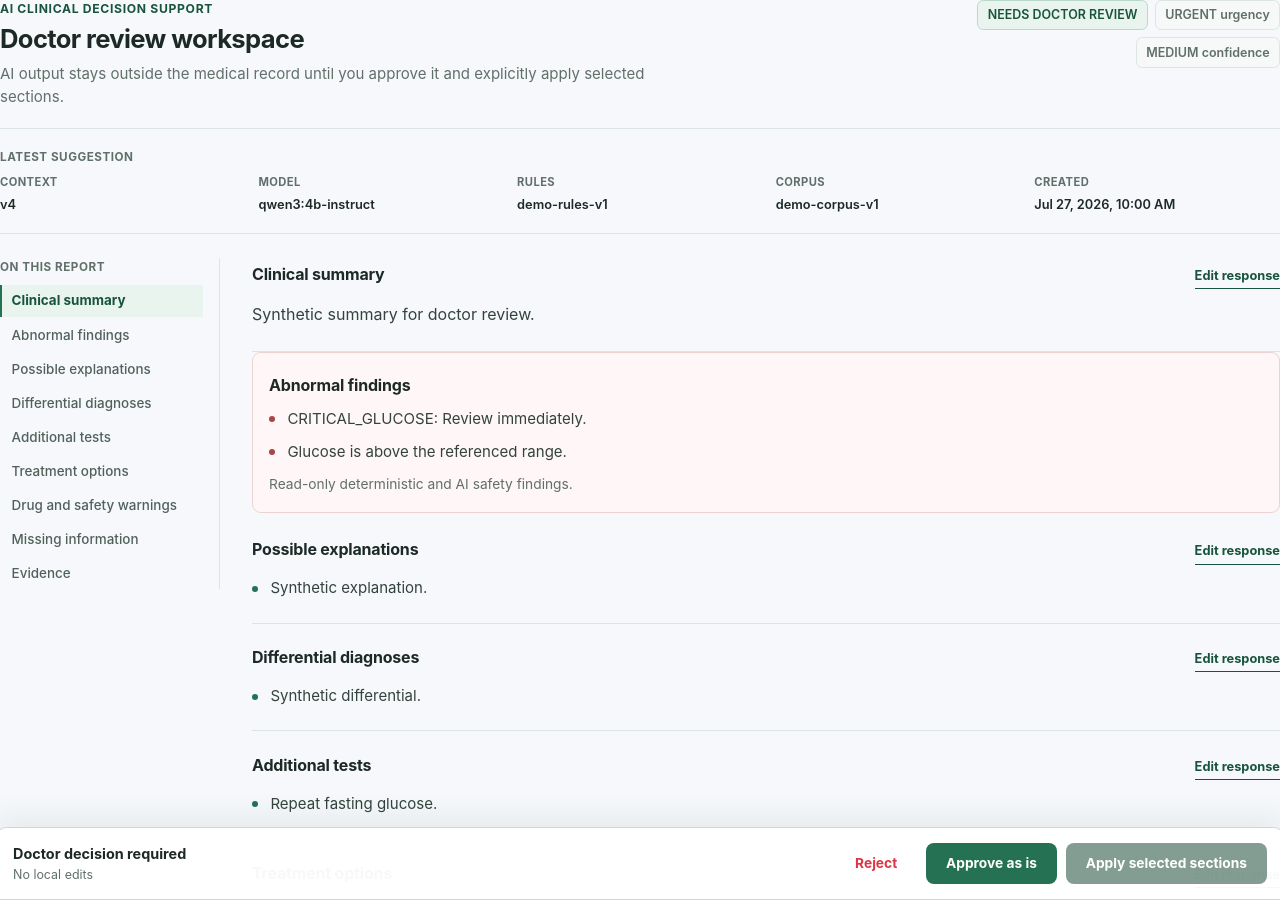
Test case: CdsSuggestionReviewPanel › closes the decision dialog when the selected run changes
What coordinates should you click on to do the following:
click the button "Approve as is"
I would click on:
 (991, 864)
Its box is [926,844,1057,884].
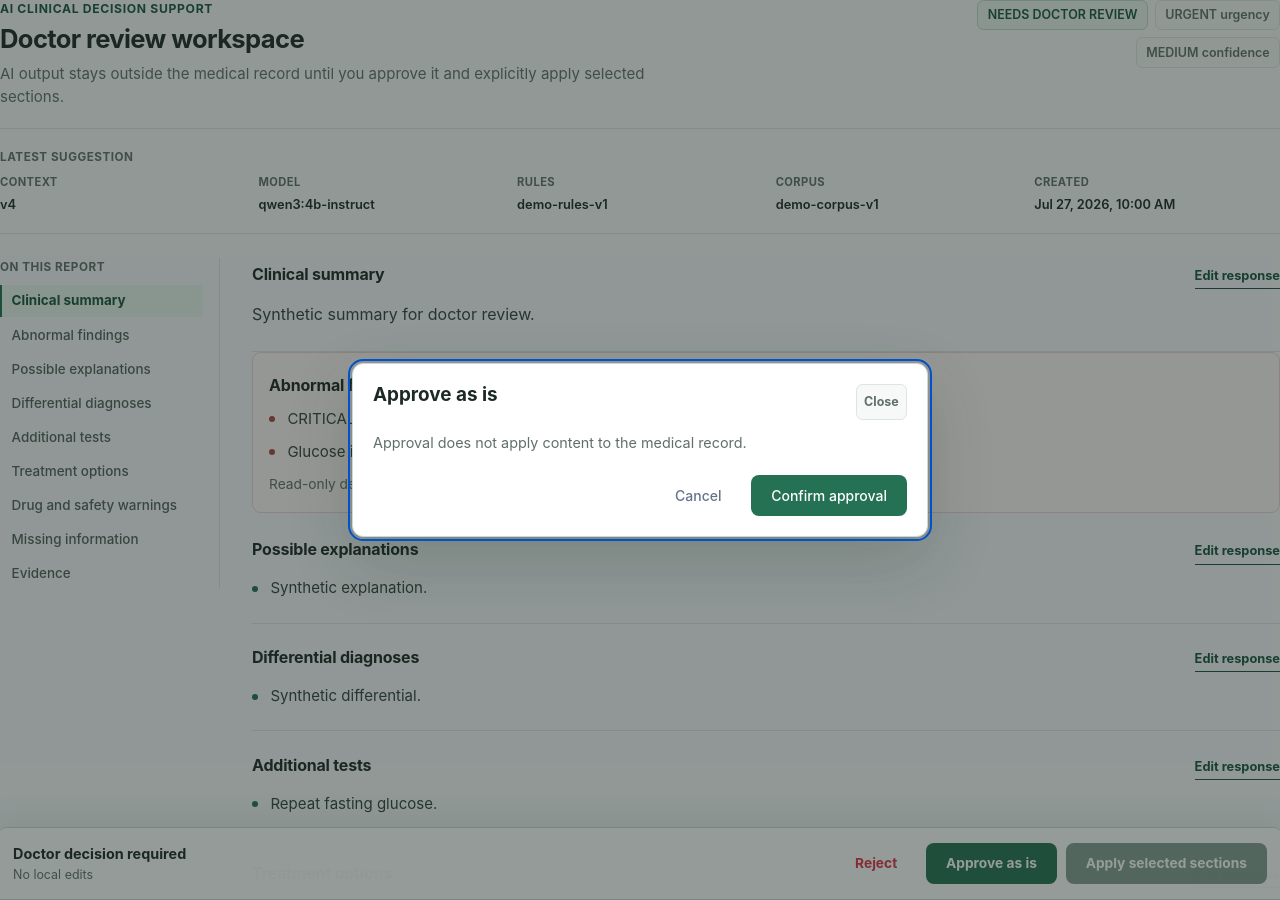
Expected: the dialog "Approve as is" is shown, [352,363,928,537]
